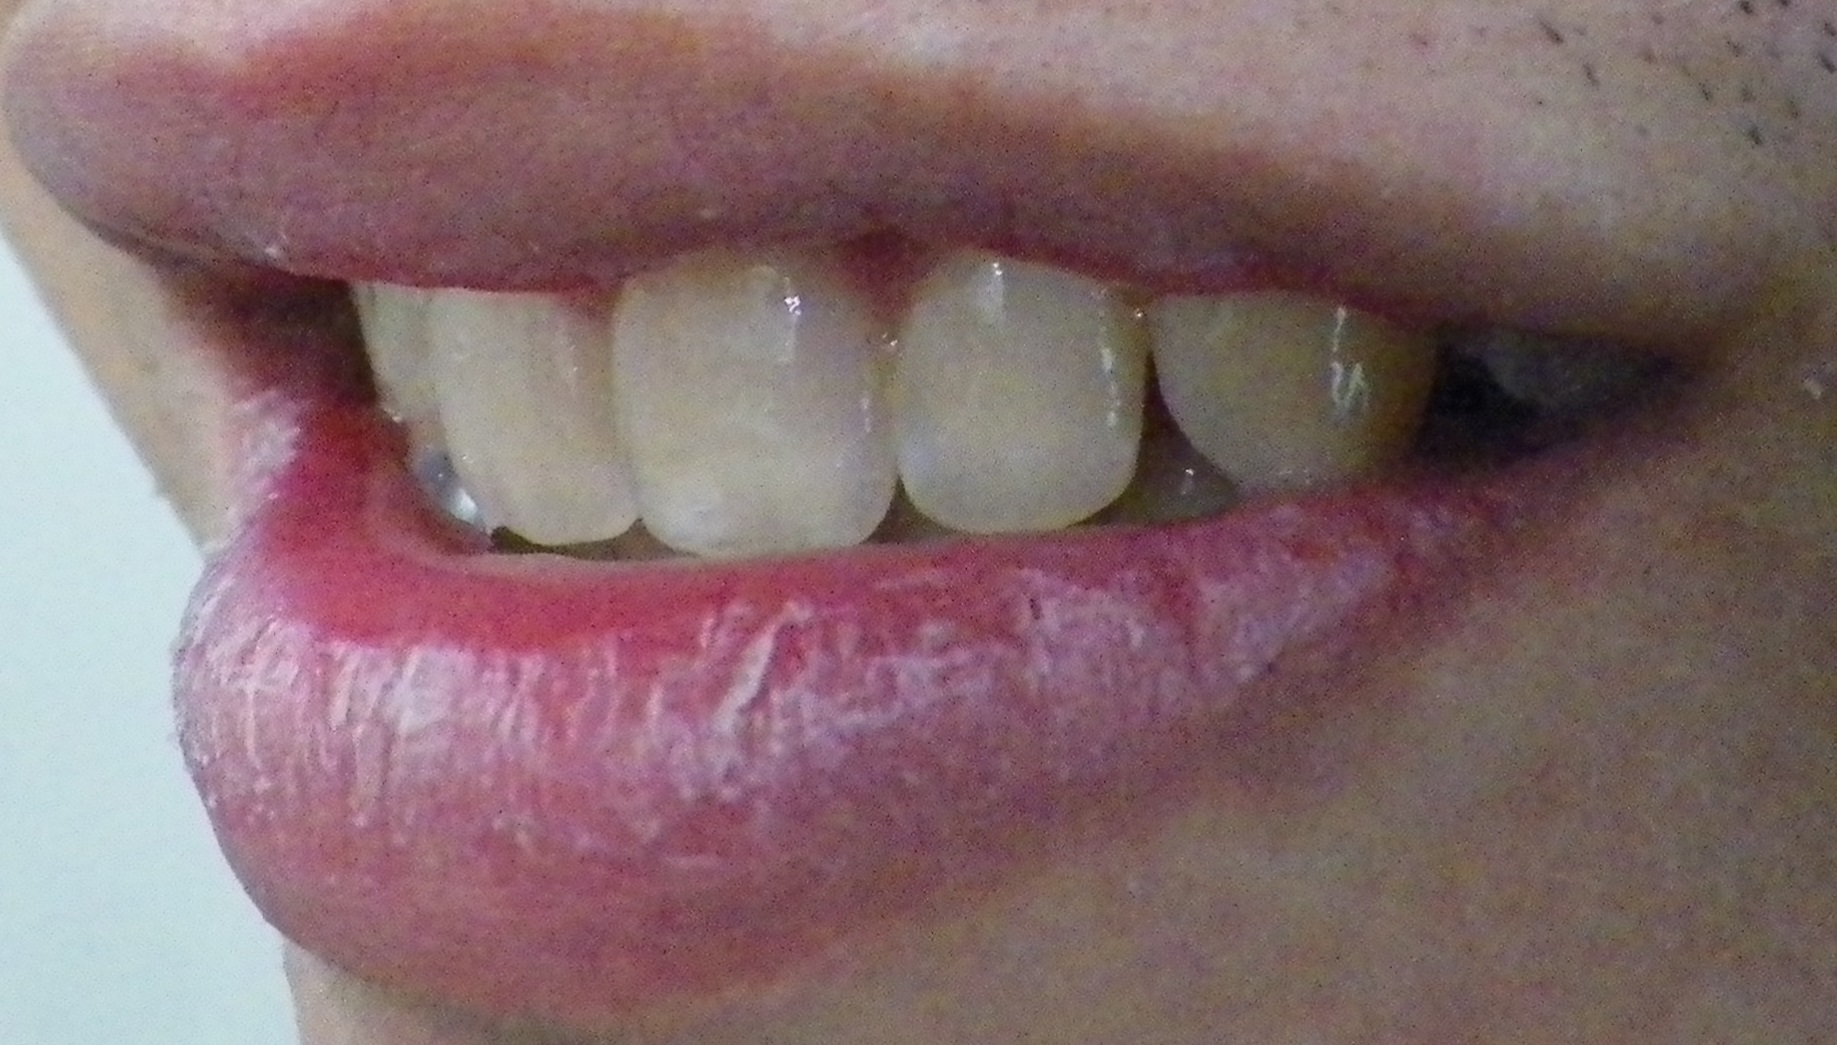boca: (336, 241, 1588, 541)
